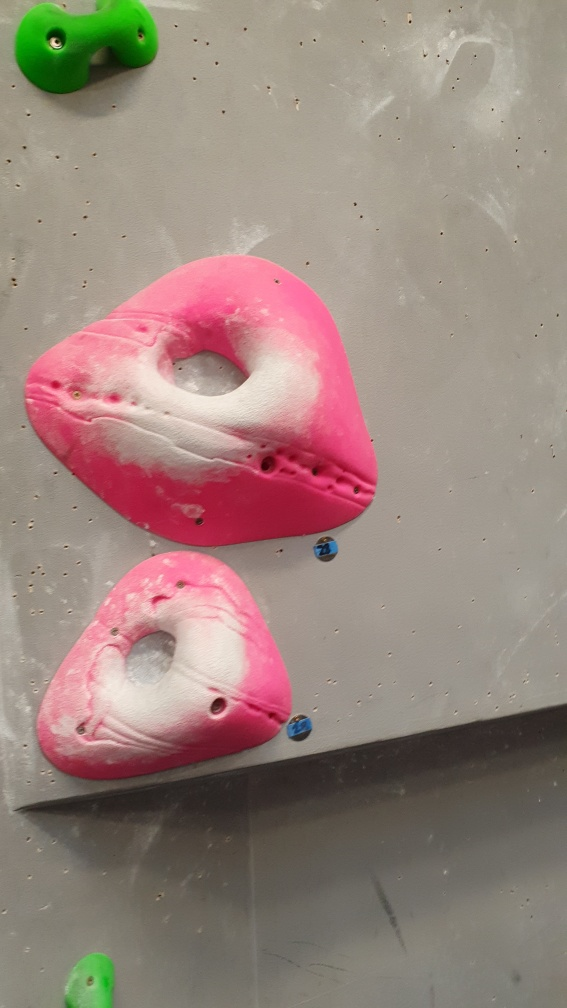Hand Start: (284, 705, 315, 743), (308, 536, 340, 567)
Pocket: (18, 252, 378, 561), (29, 551, 296, 786)
